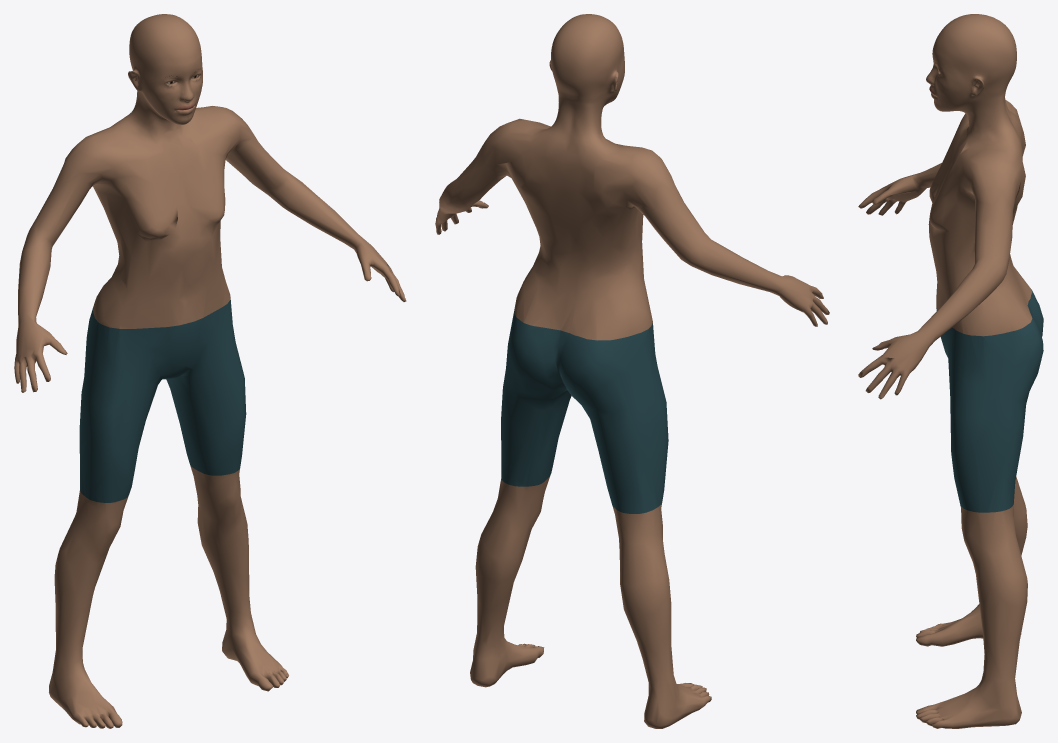
The model's file is lab-body-face-v2-normal.glb.
3 views of the same model, side by side, from view 1: azimuth 30°, elevation 25°; view 2: azimuth 150°, elevation 25°; view 3: azimuth 270°, elevation 25° (orthographic).
Visible parts, largest first — view 1: part-skin; view 2: part-skin; view 3: part-skin.
Boxes of the visible parts, bbox=[...] form: part-skin: bbox=[14, 14, 406, 728]; part-skin: bbox=[435, 14, 829, 728]; part-skin: bbox=[858, 14, 1043, 728].
Size of the model in its own units: 104 by 175 by 44.24.
